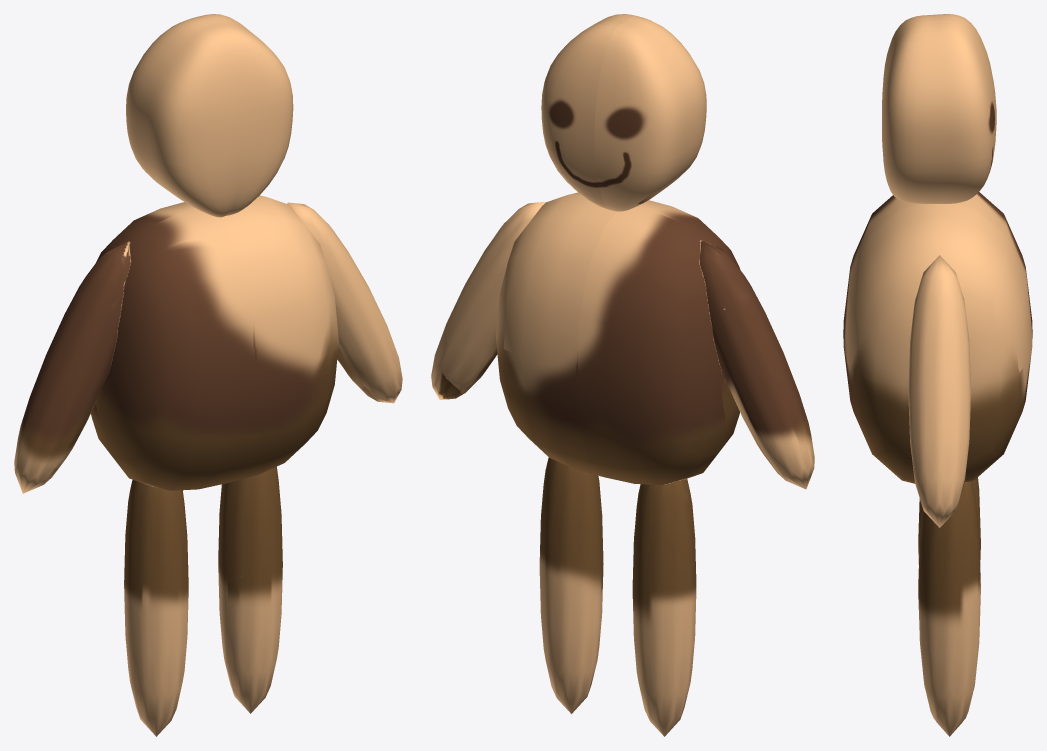
The model's file is ogre.glb.
3 views of the same model, side by side, from view 1: azimuth 30°, elevation 25°; view 2: azimuth 150°, elevation 25°; view 3: azimuth 270°, elevation 25° (orthographic).
Parts seen in each view (by area): view 1: Cube; view 2: Cube; view 3: Cube.
Boxes of the visible parts, x1,y1,x2,y2 form: Cube: (14,14,402,736); Cube: (431,14,814,736); Cube: (843,14,1032,736).
Bounding box in the file's own units: 3.6 × 6.36 × 1.57.
1 material, 1 textured.
